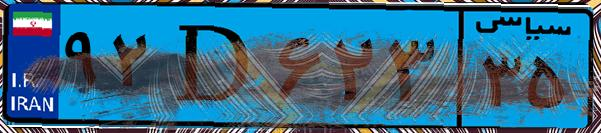2: (330, 28, 385, 110), (110, 28, 158, 98)
3: (385, 28, 445, 110), (475, 38, 525, 113)
5: (525, 38, 570, 115)
6: (270, 28, 330, 110)
9: (57, 26, 110, 100)
D: (158, 12, 270, 120)
